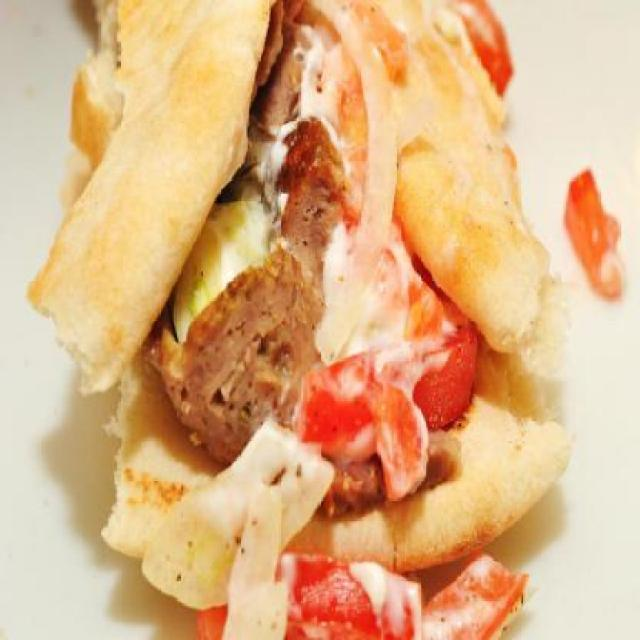Sandwich: (28, 0, 576, 614)
